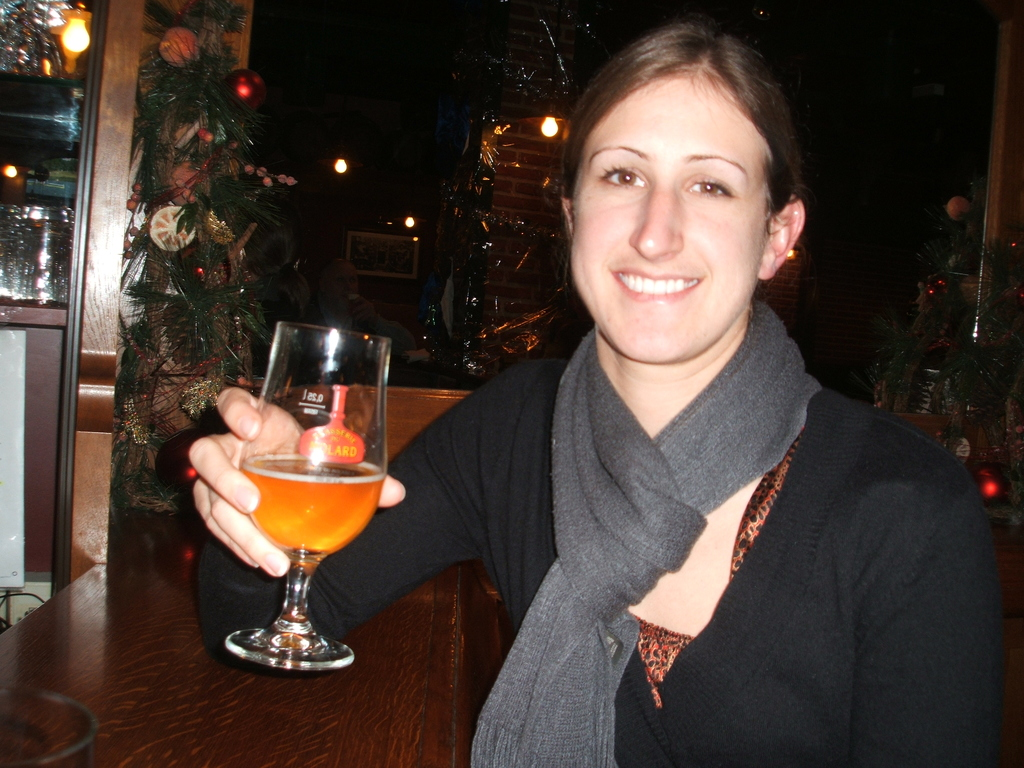Beer: (216, 320, 371, 690)
